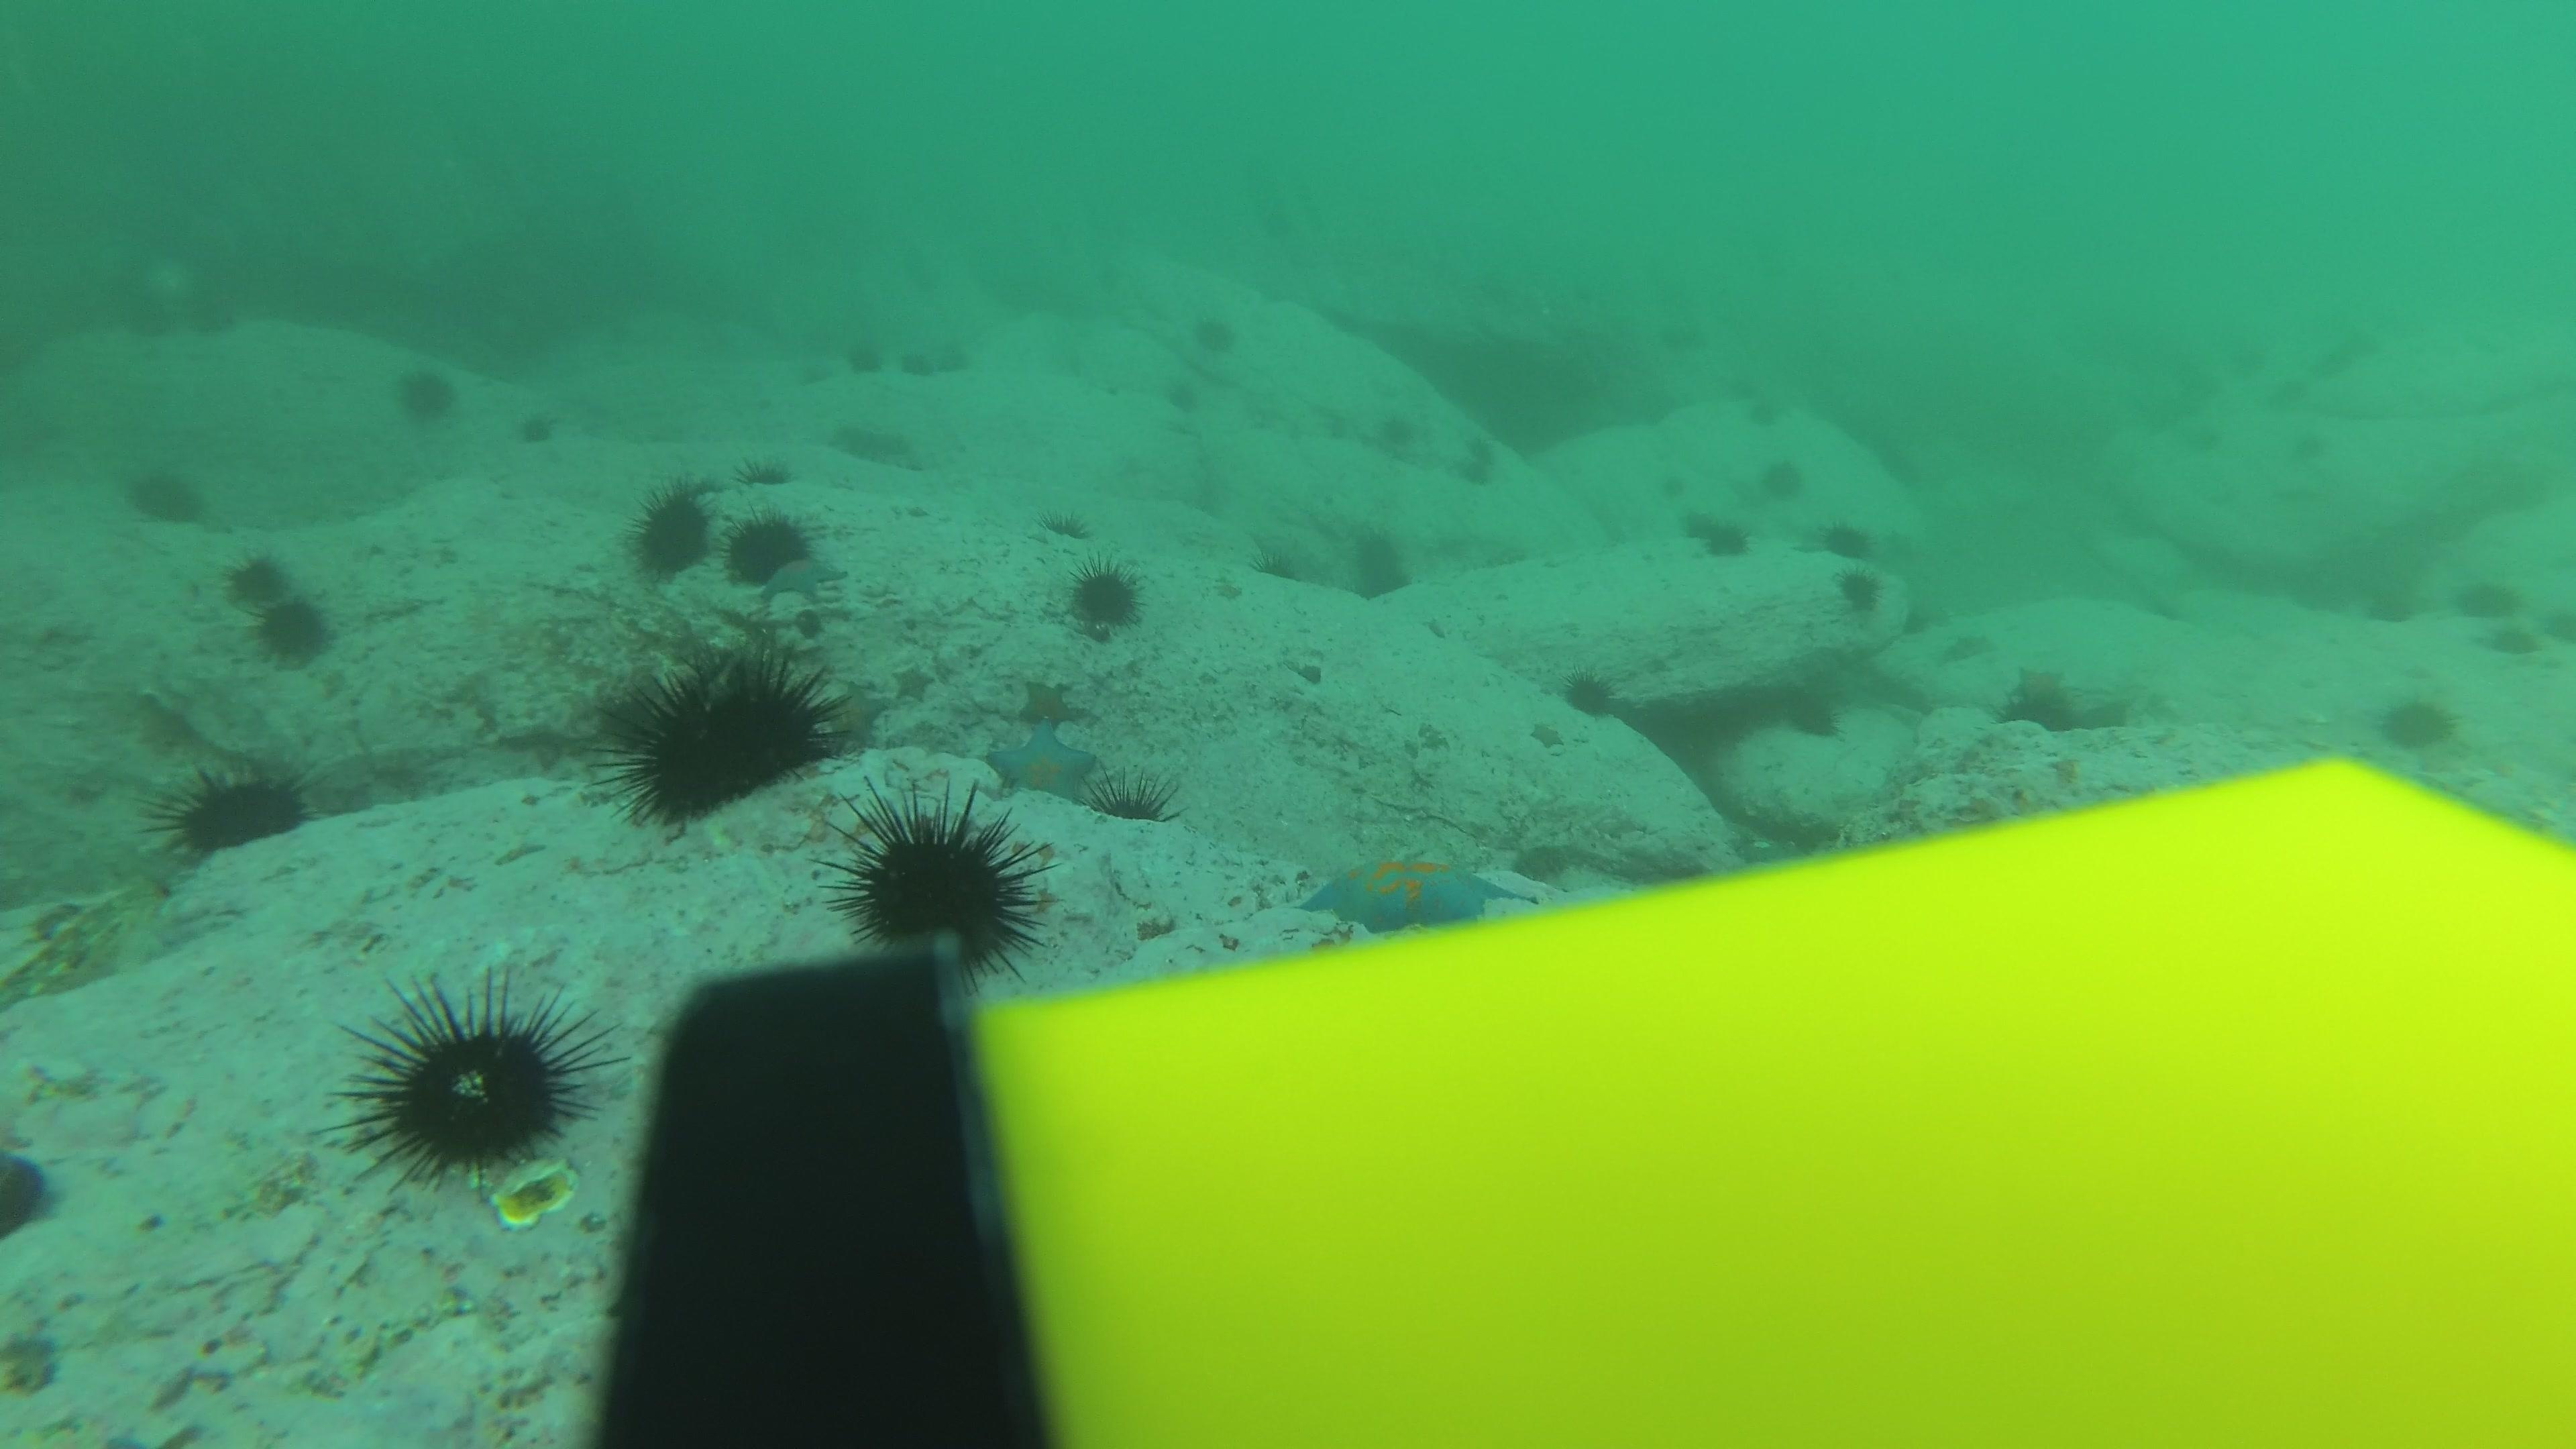echinus: (345, 971, 602, 1184), (607, 648, 842, 828), (832, 789, 1049, 971), (157, 759, 313, 862), (626, 483, 713, 579), (720, 506, 814, 586), (1063, 557, 1145, 637), (2373, 686, 2461, 755), (1992, 695, 2088, 757), (122, 458, 207, 527), (1086, 763, 1177, 826), (253, 594, 333, 663), (219, 541, 299, 610), (1343, 527, 1414, 602), (391, 361, 462, 428), (1244, 540, 1311, 596), (1559, 663, 1617, 718), (727, 449, 794, 492), (1833, 564, 1886, 617), (1792, 692, 1845, 743), (888, 347, 939, 395), (1189, 313, 1240, 361), (1164, 379, 1215, 426), (1445, 451, 1497, 499), (840, 340, 892, 386), (916, 341, 968, 387), (1371, 407, 1421, 453), (1675, 508, 1727, 547), (1743, 395, 1794, 433), (1822, 522, 1874, 561), (1877, 448, 1928, 487), (1658, 318, 1707, 357), (1702, 525, 1753, 563), (1757, 462, 1808, 499), (1649, 469, 1700, 506), (1897, 605, 1941, 642), (1465, 430, 1506, 462), (520, 418, 561, 449), (2192, 372, 2227, 403), (2273, 377, 2309, 409), (2293, 426, 2328, 456), (2197, 414, 2233, 444), (2233, 343, 2268, 373)
holothurian: (824, 418, 934, 479), (1923, 630, 2008, 674)
starfish: (1295, 847, 1557, 938), (984, 724, 1102, 803), (2001, 663, 2082, 736), (824, 679, 892, 741), (766, 550, 847, 600), (1028, 497, 1088, 554), (1017, 676, 1074, 727), (890, 660, 938, 704), (1529, 720, 1569, 752)
